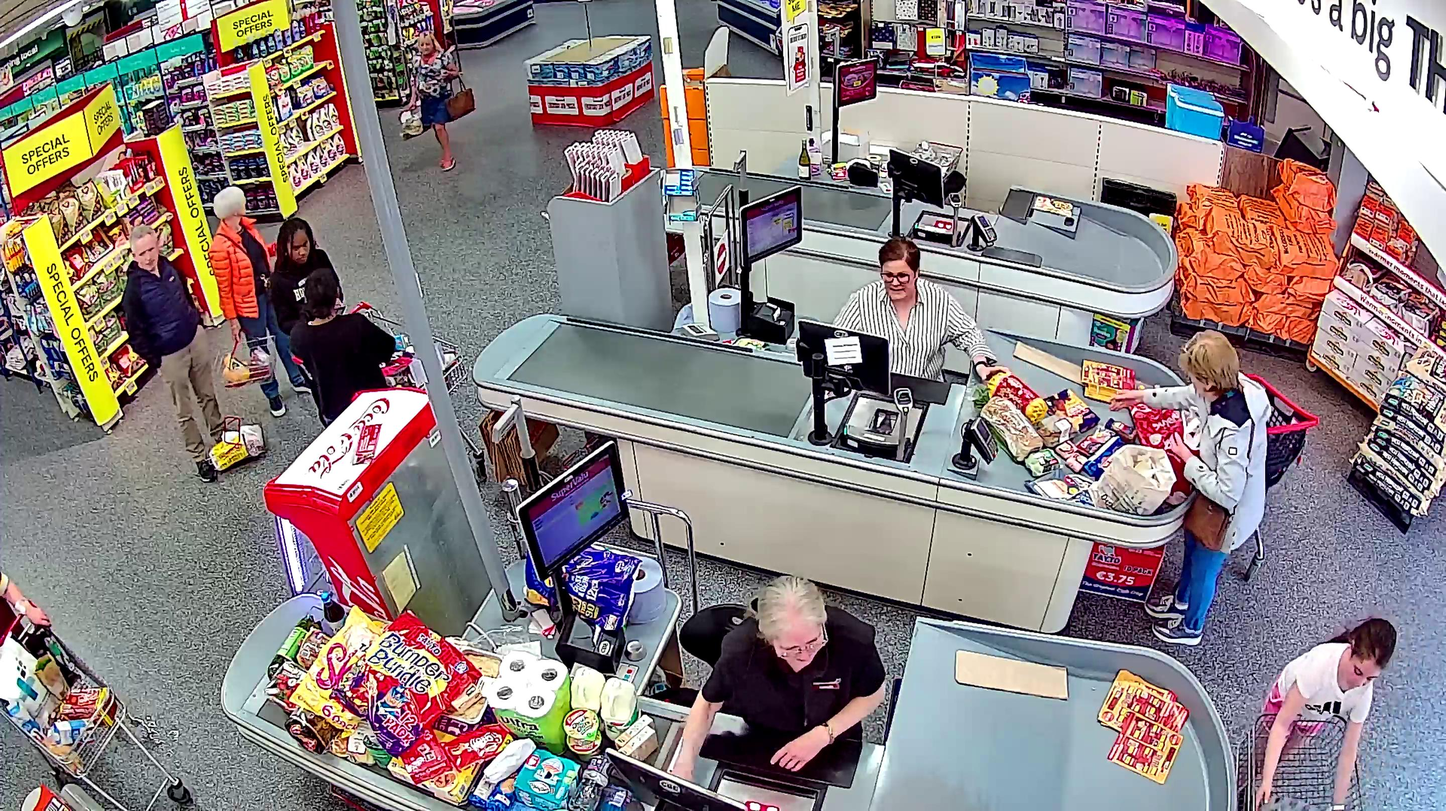backpack-or-handbag: (446, 81, 476, 121)
filled-basket: (213, 333, 277, 391), (397, 105, 430, 141)
occupied-checkout-counter: (515, 438, 922, 811), (738, 180, 1003, 477)
person: (208, 187, 314, 417), (410, 32, 460, 171)
person-with-basket-trolly-and-backpack-handbag: (397, 31, 476, 172)
person-with-filled-basket-trolly: (208, 185, 315, 416)
vacant-checkout-counter: (828, 50, 1029, 256)
